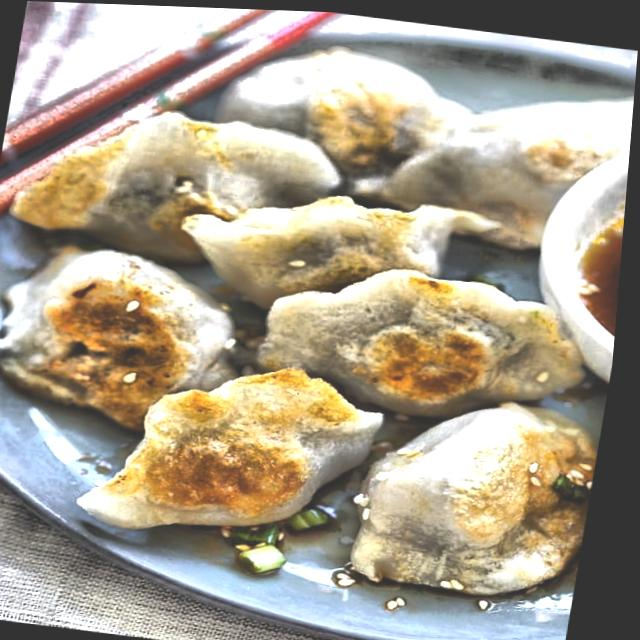Food: (0, 20, 639, 594)
